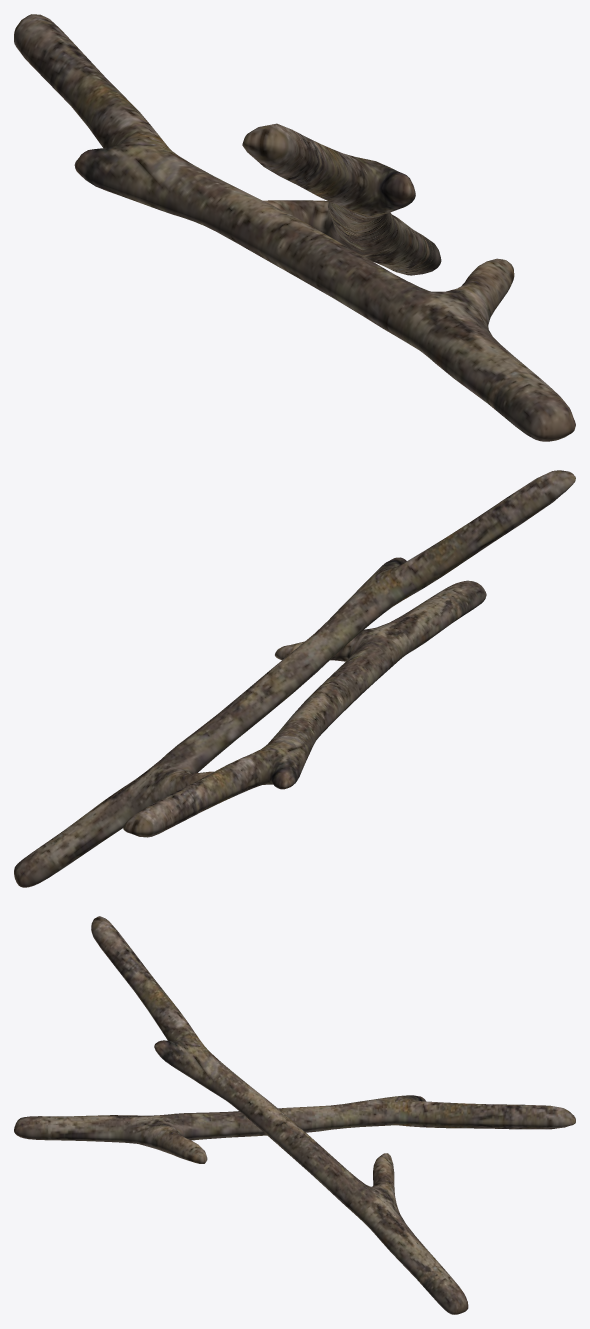
File: tree-branches.glb
3 renders of one model, top to bottom at view 1: azimuth 30°, elevation 25°; view 2: azimuth 150°, elevation 25°; view 3: azimuth 270°, elevation 25°, orthographic. The views are drawn at different scales.
Visible parts, largest first — view 1: Debris and twigs, Debris and twigs.001; view 2: Debris and twigs.001, Debris and twigs; view 3: Debris and twigs.001, Debris and twigs.
Boxes of the visible parts, x1,y1,x2,y2 form: Debris and twigs: (14,14,575,441); Debris and twigs.001: (242,123,441,275); Debris and twigs.001: (14,470,575,887); Debris and twigs: (123,580,486,837); Debris and twigs.001: (91,916,468,1314); Debris and twigs: (14,1095,575,1163).
Bounding box in the file's own units: 0.1864 × 0.1716 × 0.3253.
Materials: 1 (1 with a texture image).
